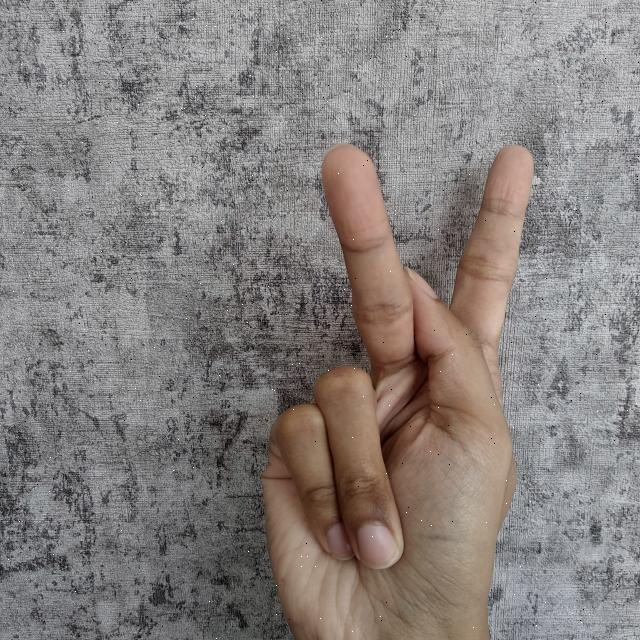K: (252, 138, 541, 640)
